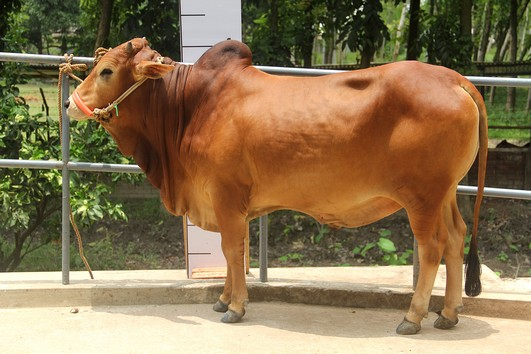cow: (61, 33, 490, 341)
